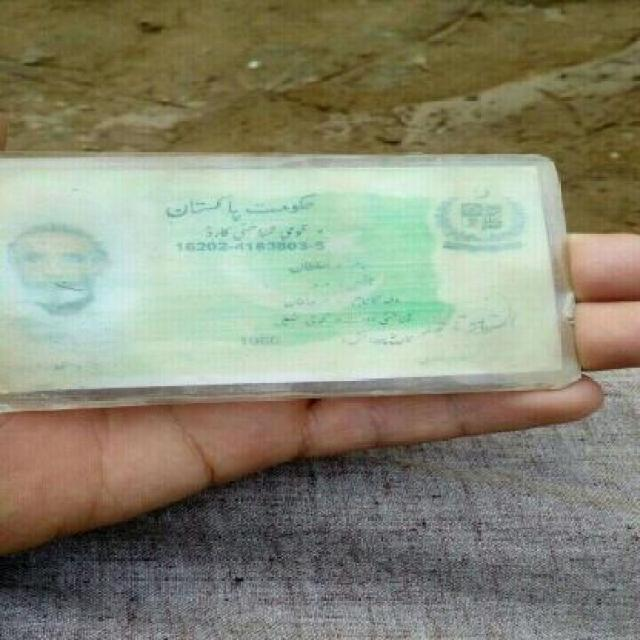Front: (11, 156, 577, 392)
